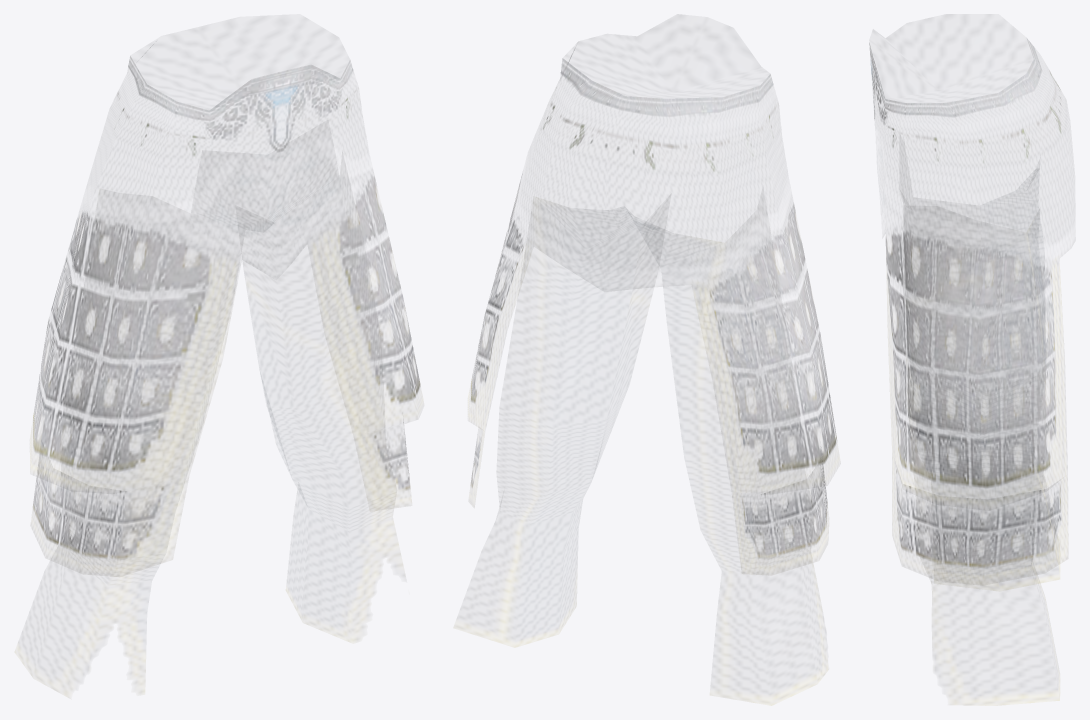
The model's file is heavy_04_la.glb.
3 renders of one model, left to right at view 1: azimuth 30°, elevation 25°; view 2: azimuth 150°, elevation 25°; view 3: azimuth 270°, elevation 25°, orthographic. The views are drawn at different scales.
Visible parts, largest first — view 1: heavy_04_la; view 2: heavy_04_la; view 3: heavy_04_la.
Boxes of the visible parts, bbox=[...] form: heavy_04_la: bbox=[33, 41, 420, 576]; heavy_04_la: bbox=[470, 42, 836, 575]; heavy_04_la: bbox=[869, 38, 1061, 590].
Size of the model in its own units: 0.5192 by 0.8132 by 0.2572.
1 material, 1 textured.
